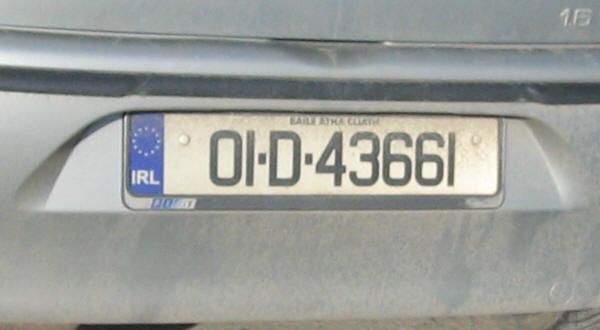license_plate: (124, 104, 505, 198)
